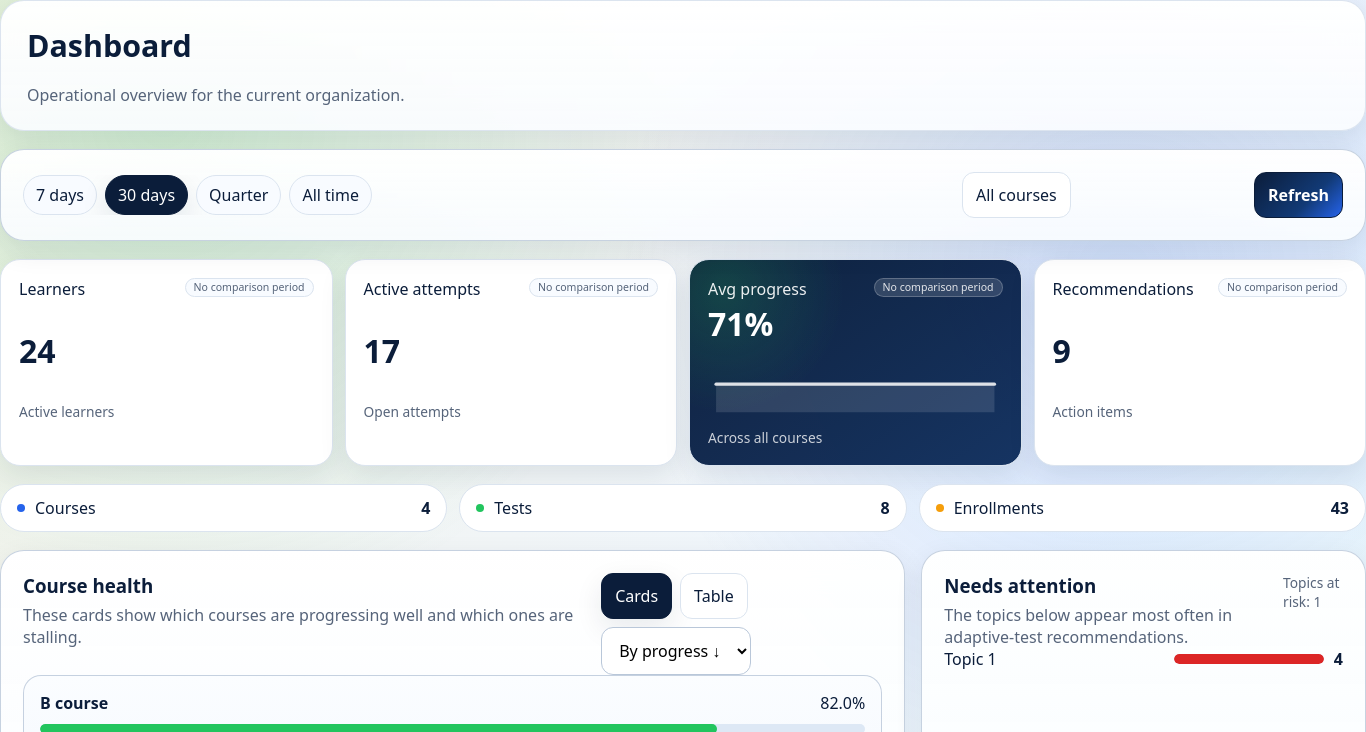
Test case: DashboardPage › switches between cards and table views
Expected: the heading "Course health" is shown, x1=23 y1=573 x2=153 y2=598
Click the button "Table" at (714, 596), box x1=680 y1=573 x2=748 y2=619
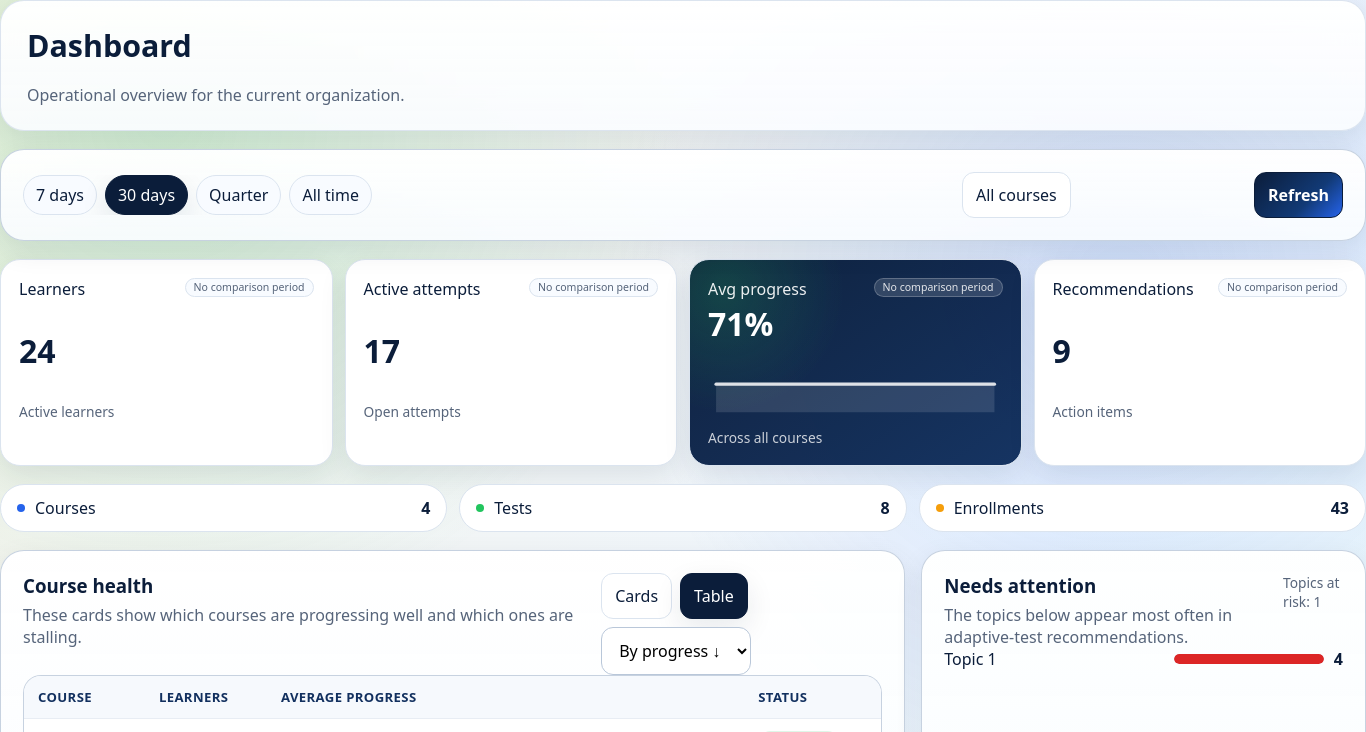
Click the button "Cards" at (637, 596), box x1=601 y1=573 x2=672 y2=619
(page scrolled)
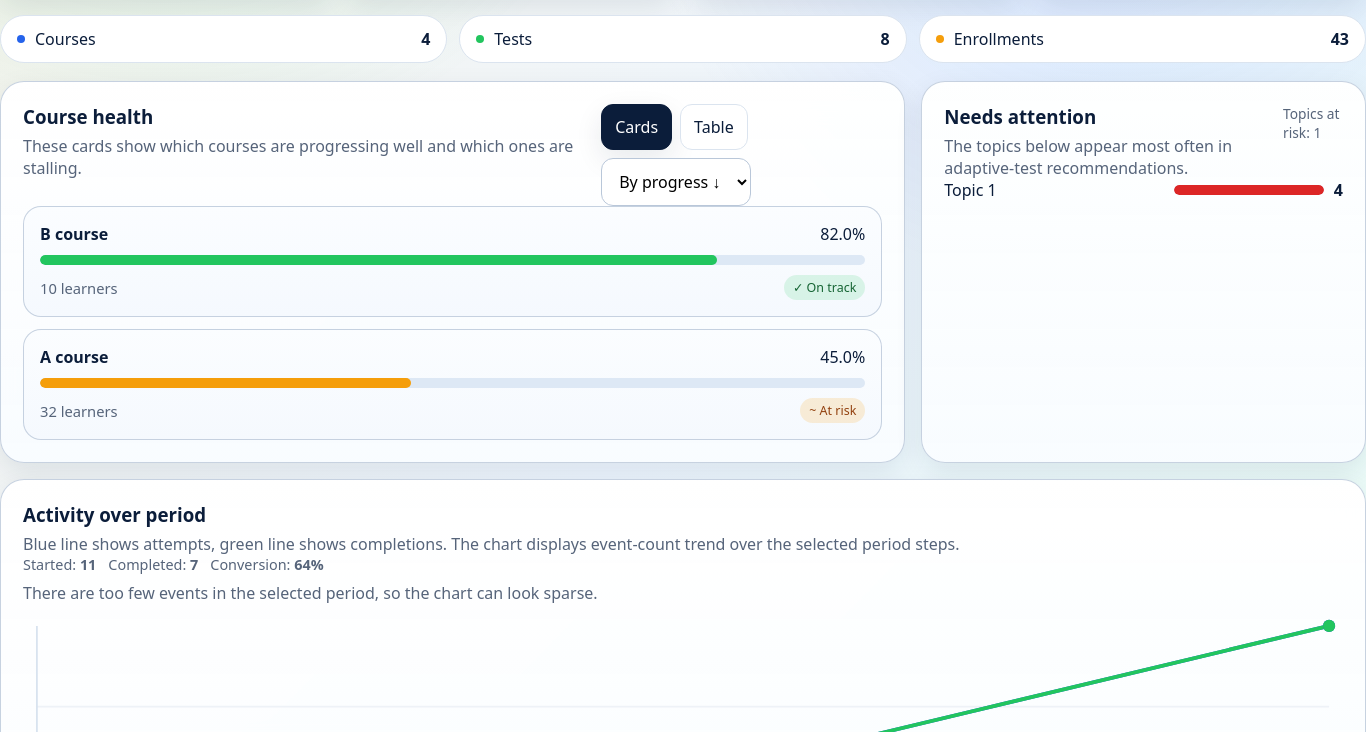
Expected: the link "A course 45.0% 32 learners ~ At risk" is shown, x1=23 y1=329 x2=882 y2=440
